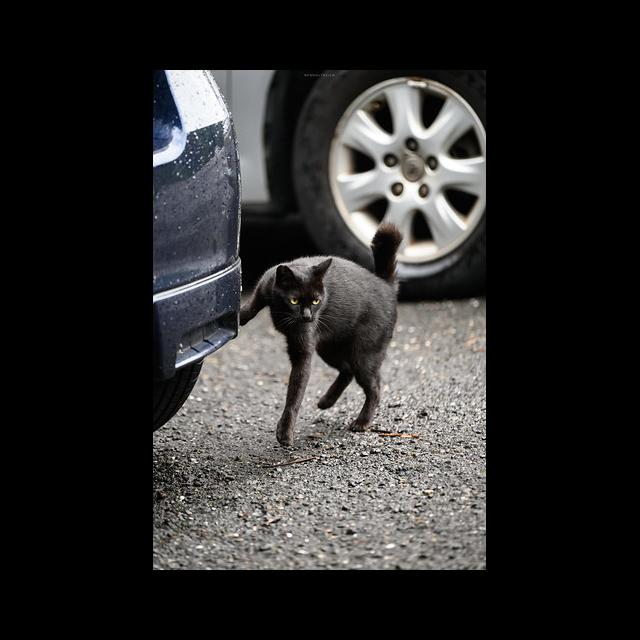animals: (239, 227, 407, 446)
